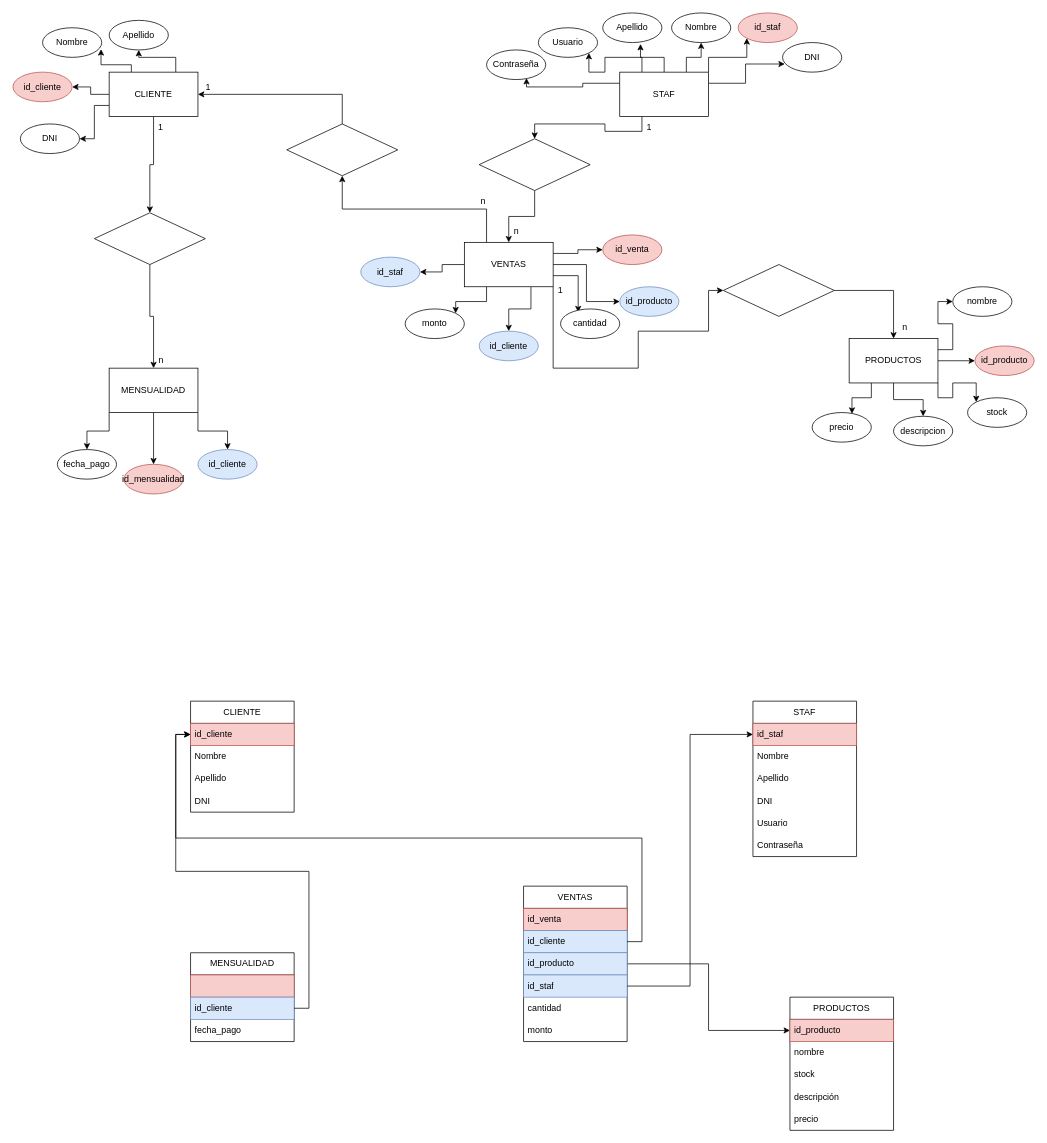
Some shapes in this 1047 by 1143 pixel diagram are drawn without their labels. Here are the shapes that lost their labels. From the top down, the box of each, then its label:
(286, 123, 398, 176): SE HACEN A
(478, 138, 590, 191): HACE
(94, 212, 205, 265): PAGAN
(723, 264, 834, 316): VENDEN
(190, 974, 294, 997): id_mendualidad
